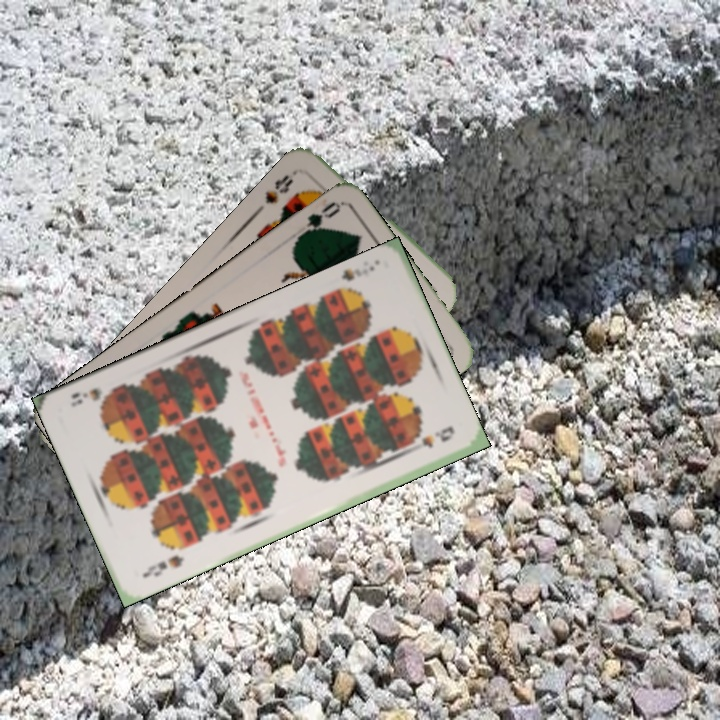GO: (292, 197, 343, 244)
S8: (260, 165, 301, 207)
S9: (138, 551, 187, 581), (337, 260, 378, 284)
